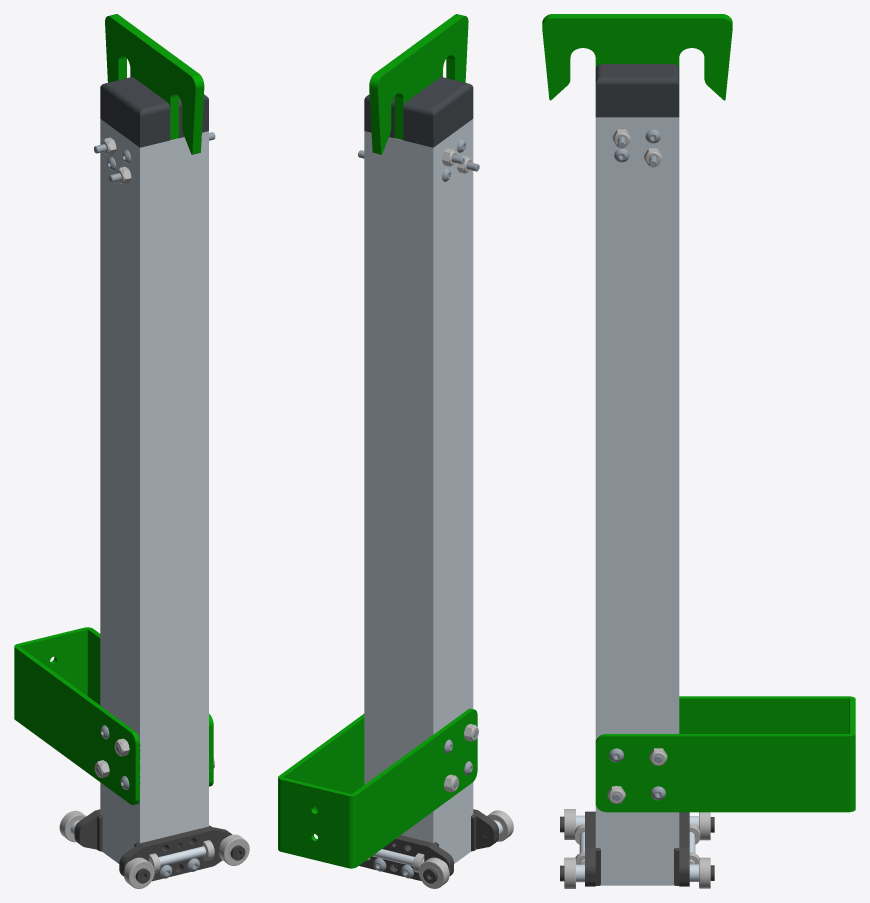
The picture shows the model from 3 angles, left to right: view 1: azimuth 30°, elevation 25°; view 2: azimuth 150°, elevation 25°; view 3: azimuth 270°, elevation 25°; orthographic projection. The views are drawn at different scales.
Parts seen in each view (by area): view 1: Tube 2"x2"x20.25", Chain Connection Bracket, Hook, Hook Crush Block, Sliding Bearing Block Plate - SLIDE-001 (×2), TTB-0038_75OD_25ID_28WD (×2), .25diameter_1.75inSteelDowel_SLIDE-002; view 2: Tube 2"x2"x20.25", Chain Connection Bracket, Hook, Hook Crush Block, Sliding Bearing Block Plate - SLIDE-001 (×2), TTB-0038_75OD_25ID_28WD; view 3: Tube 2"x2"x20.25", Chain Connection Bracket, Hook, Hook Crush Block, Sliding Bearing Block Plate - SLIDE-001 (×2).
Part boxes in pixels (x1,y1,x2,y2): Tube 2"x2"x20.25": (100,119,208,863); Chain Connection Bracket: (14,627,213,805); Hook: (105,14,204,154); Hook Crush Block: (100,77,208,147); Sliding Bearing Block Plate - SLIDE-001 (×2): (74,809,231,881); TTB-0038_75OD_25ID_28WD (×2): (124,834,249,888); .25diameter_1.75inSteelDowel_SLIDE-002: (149,846,206,866); Tube 2"x2"x20.25": (364,119,473,863); Chain Connection Bracket: (278,708,477,868); Hook: (369,14,468,154); Hook Crush Block: (364,77,473,147); Sliding Bearing Block Plate - SLIDE-001 (×2): (359,809,498,880); TTB-0038_75OD_25ID_28WD: (418,857,449,888); Tube 2"x2"x20.25": (595,117,679,885); Chain Connection Bracket: (595,696,855,812); Hook: (542,14,732,100); Hook Crush Block: (595,64,679,117); Sliding Bearing Block Plate - SLIDE-001 (×2): (585,811,689,886).
Size of the model in its own units: 0.0889 by 0.5705 by 0.1903.
